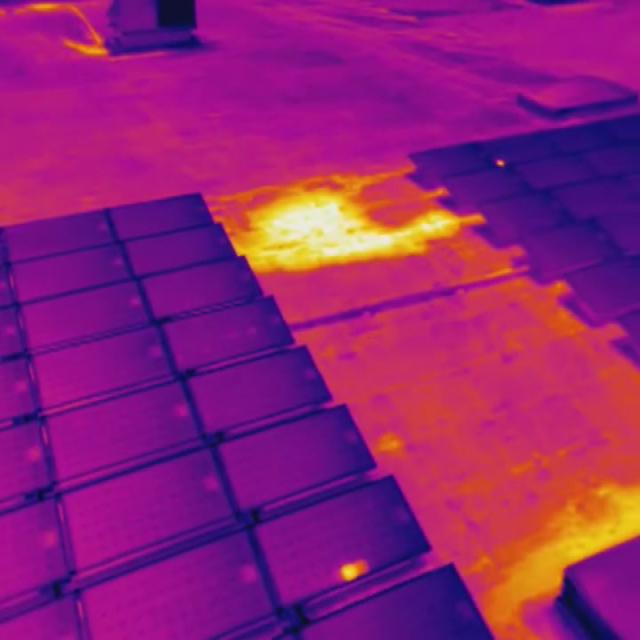Orange-Spots: (338, 558, 370, 581), (496, 158, 504, 166)
